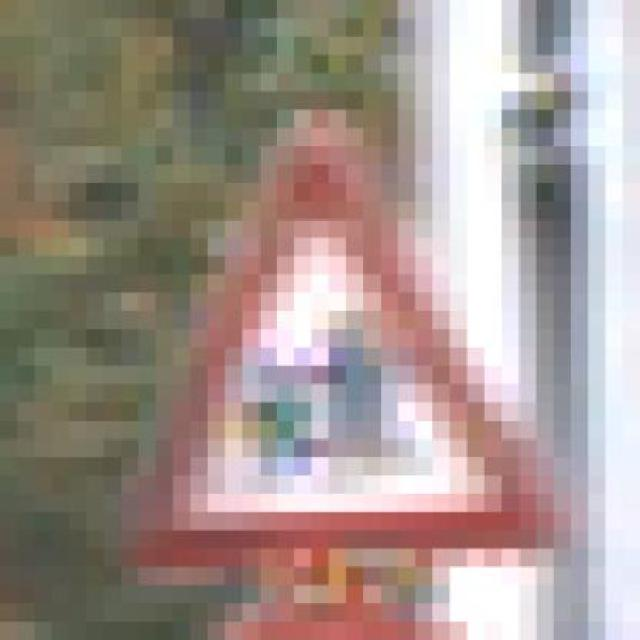Beware of children: (120, 110, 572, 567)
